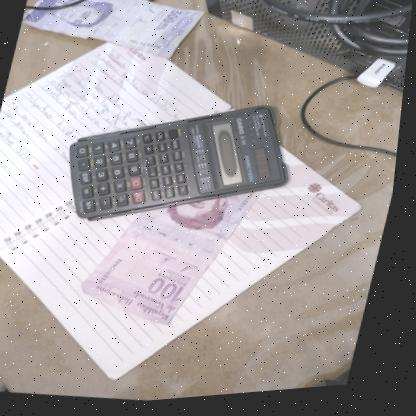vef_front: (77, 171, 270, 343)
